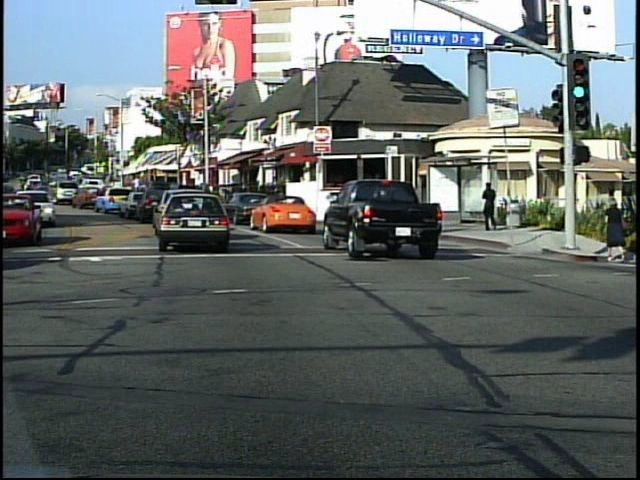person: (603, 192, 632, 265), (478, 180, 501, 236)
